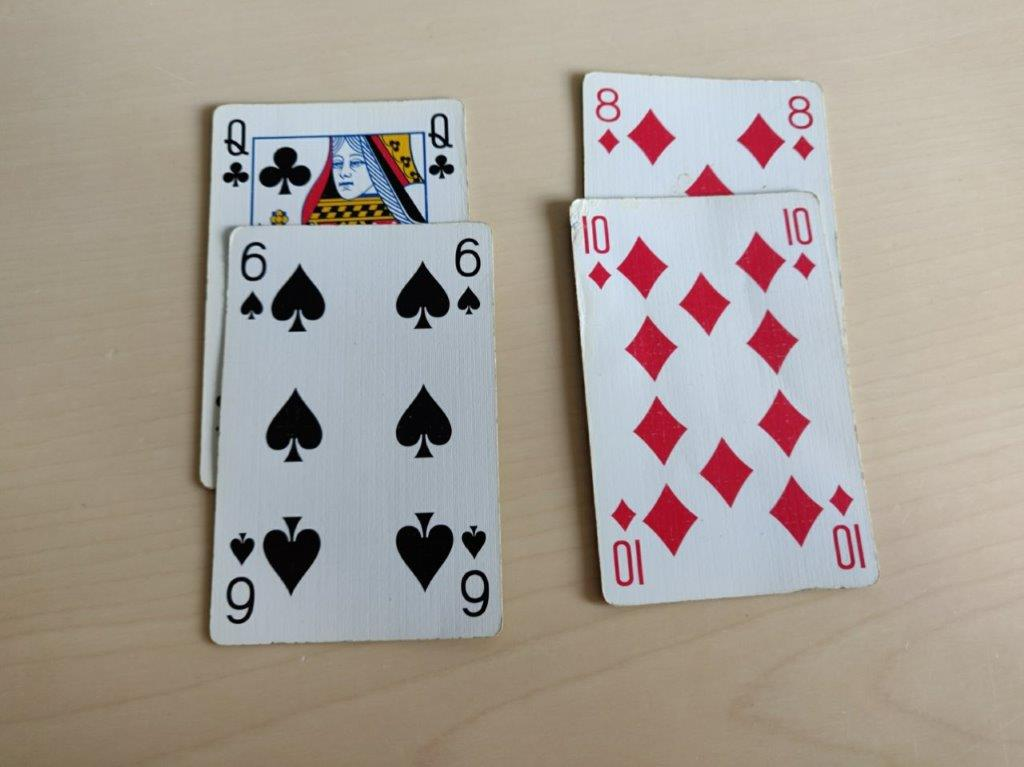10D: (773, 197, 826, 284), (573, 202, 621, 298)
6S: (224, 227, 275, 323), (444, 230, 491, 323)
8D: (582, 79, 626, 158), (780, 86, 823, 165)
QC: (213, 109, 254, 193), (424, 107, 459, 186)
